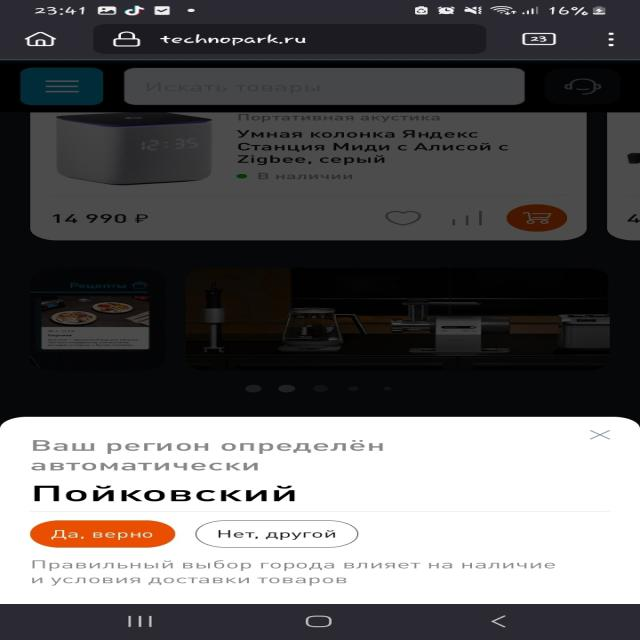button: (196, 521, 362, 549), (34, 520, 175, 550), (582, 426, 622, 446)
site: (0, 417, 640, 603)
